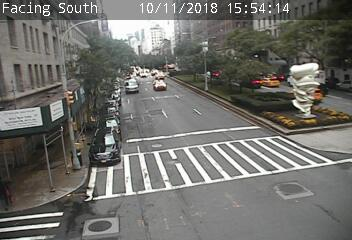car: (153, 80, 166, 90)
